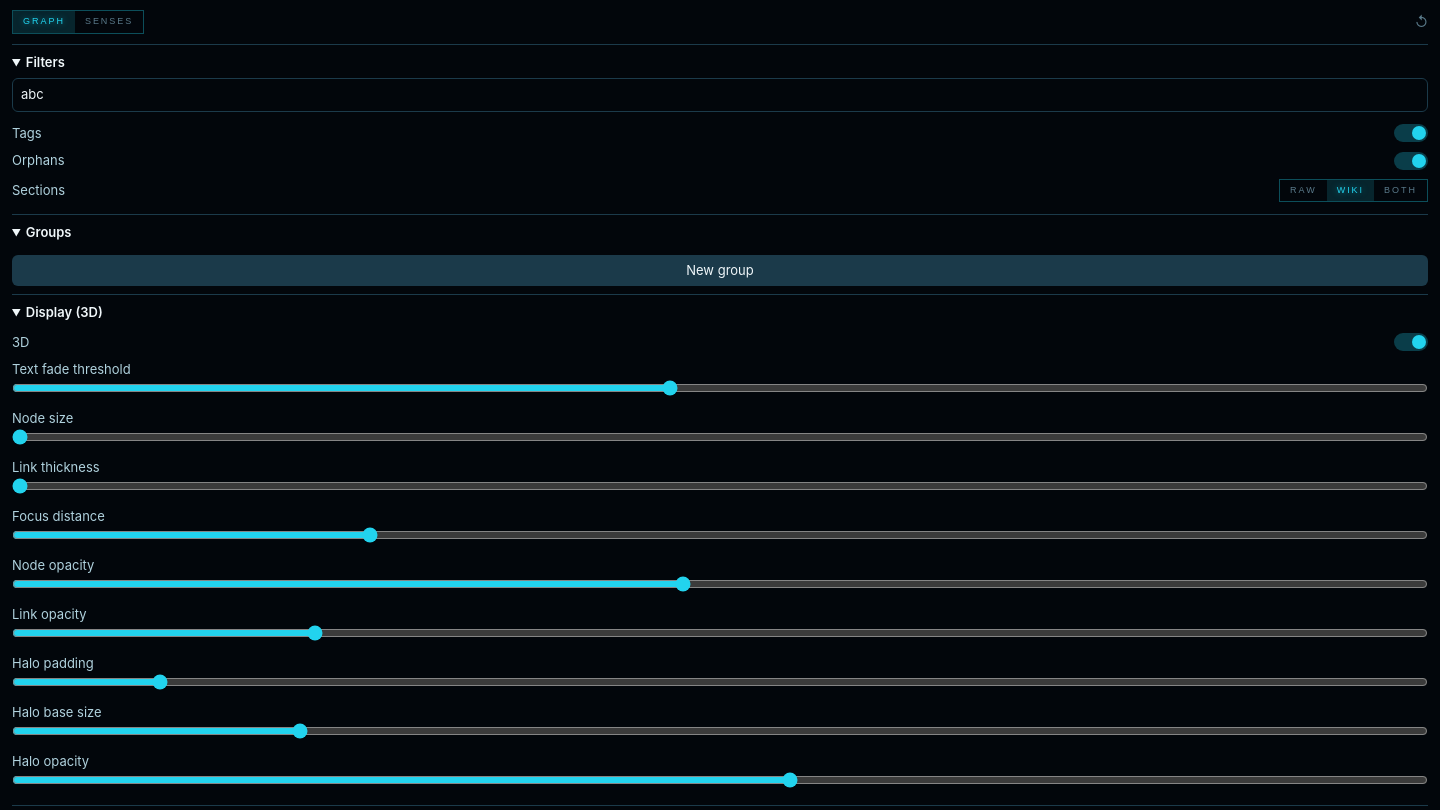
daily briefing notes folder › shows the folder the picker returns
Click the button "Senses" at (109, 22), box [75, 11, 143, 32]
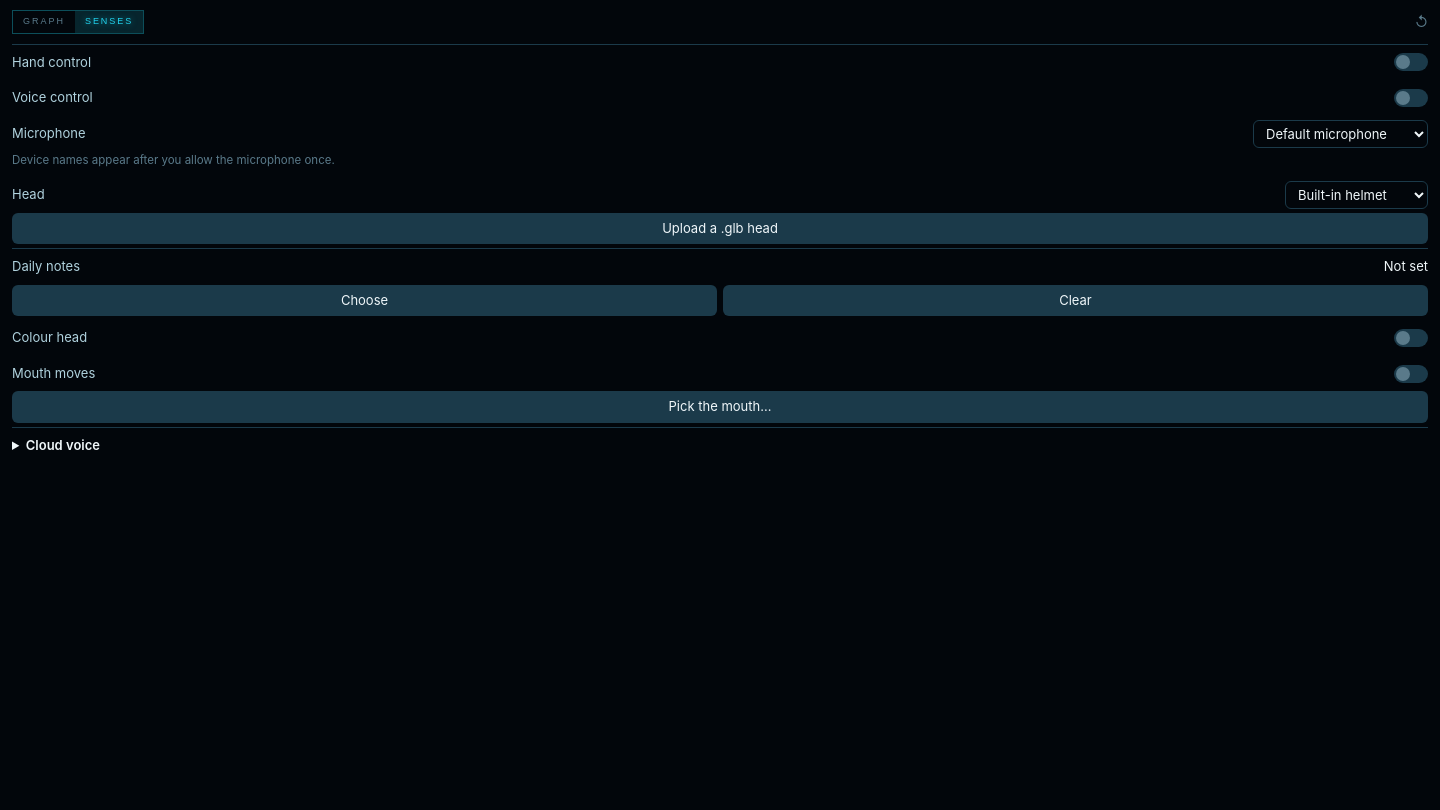
Click the button with test id "notes-dir-choose" at (364, 301), box [12, 285, 717, 316]
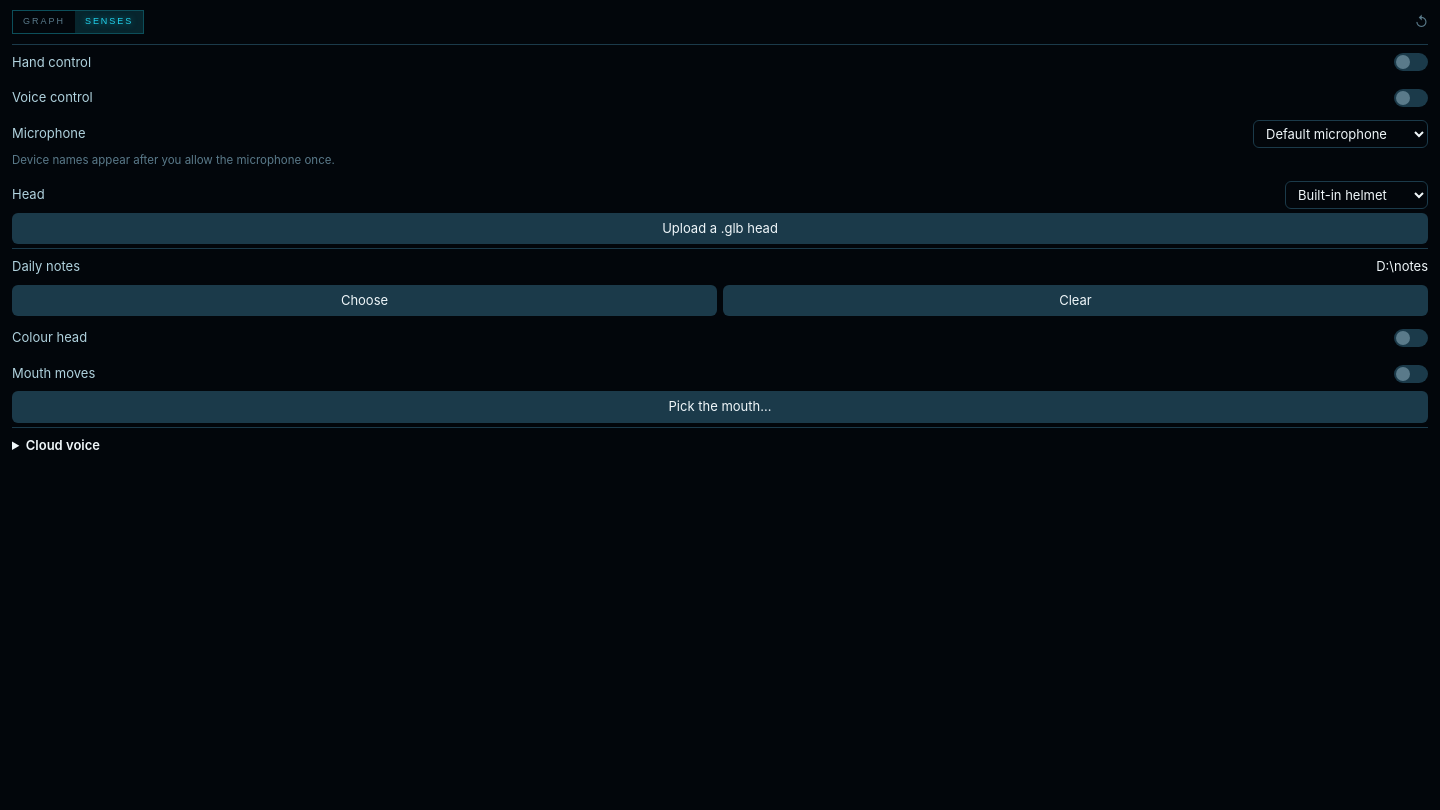
Result: the text with test id "notes-dir-path" reads "D:\\notes" at [1376, 258, 1428, 274]
